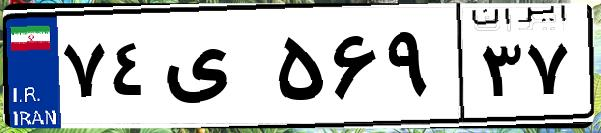3: (475, 38, 525, 113)
4: (110, 28, 158, 98)
5: (270, 28, 330, 110)
6: (330, 28, 385, 110)
7: (57, 26, 110, 100), (525, 38, 570, 115)
9: (385, 28, 445, 110)
ی: (158, 20, 270, 120)
